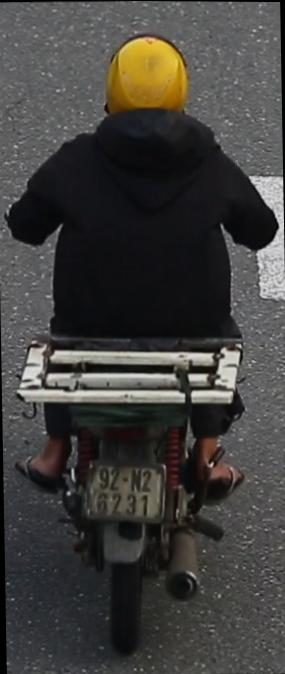LP: (81, 458, 169, 528)
helmet: (98, 31, 194, 134)
